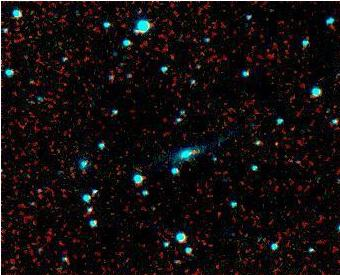star: (261, 139, 291, 169)
